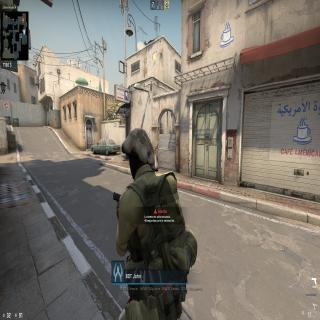CT-Head: (121, 123, 159, 181)
